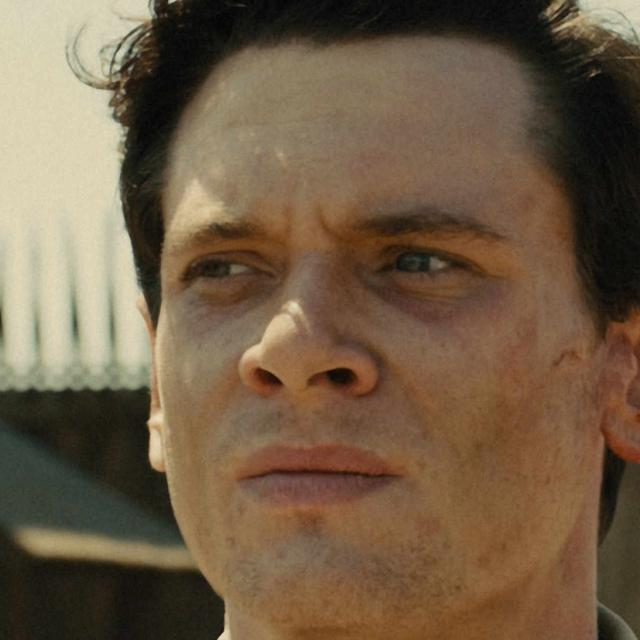Depress: (152, 44, 608, 624)
